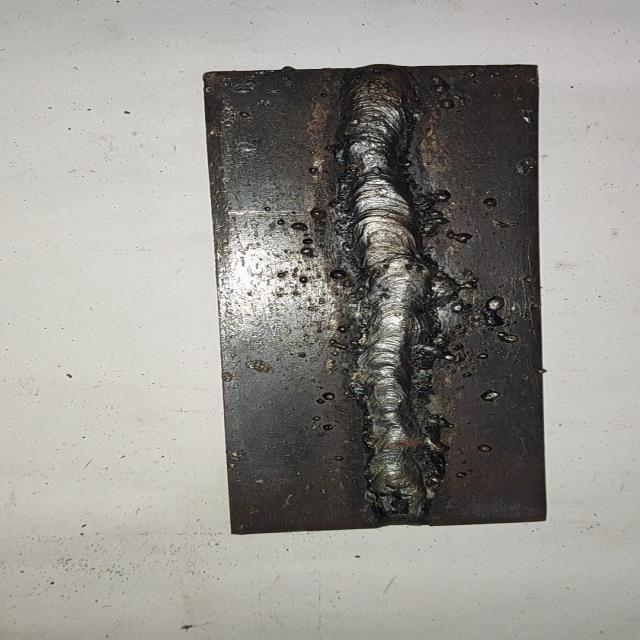Defect: (323, 252, 513, 334)
Welding Line: (339, 73, 432, 521)
Workpiece: (198, 60, 556, 538)
